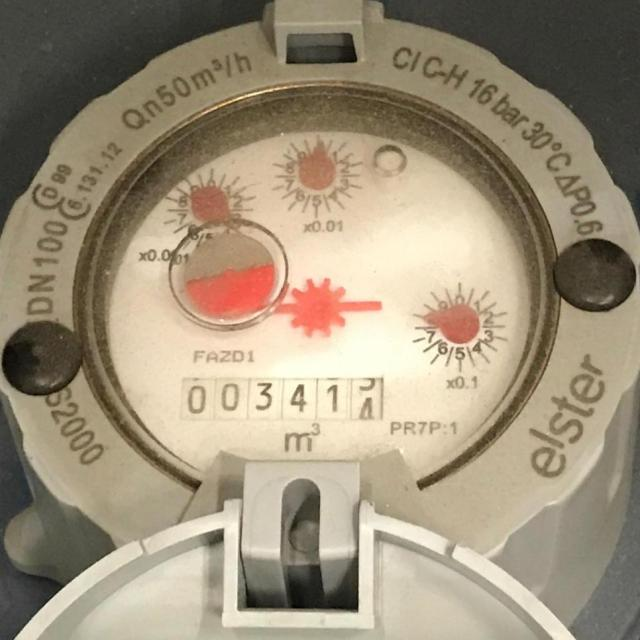gaz_meter: (75, 76, 554, 494)
indication: (177, 373, 384, 421)
